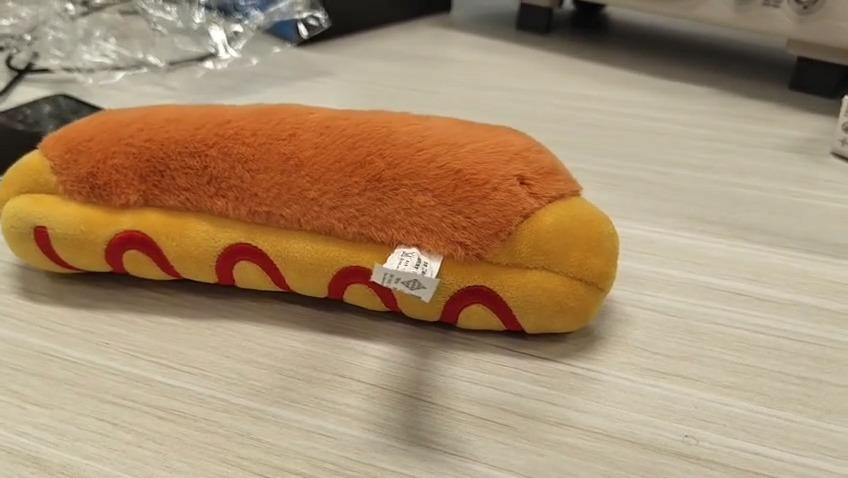hotdog: (0, 102, 620, 337)
